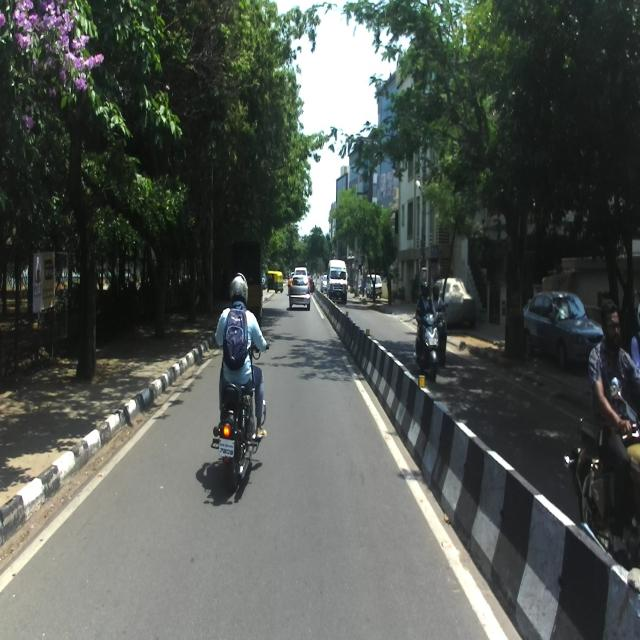car: (522, 289, 605, 370), (288, 274, 311, 309)
mini-bus: (326, 258, 347, 303)
motorcycle: (562, 376, 640, 567), (210, 338, 269, 492)
scooter: (413, 306, 442, 380)
